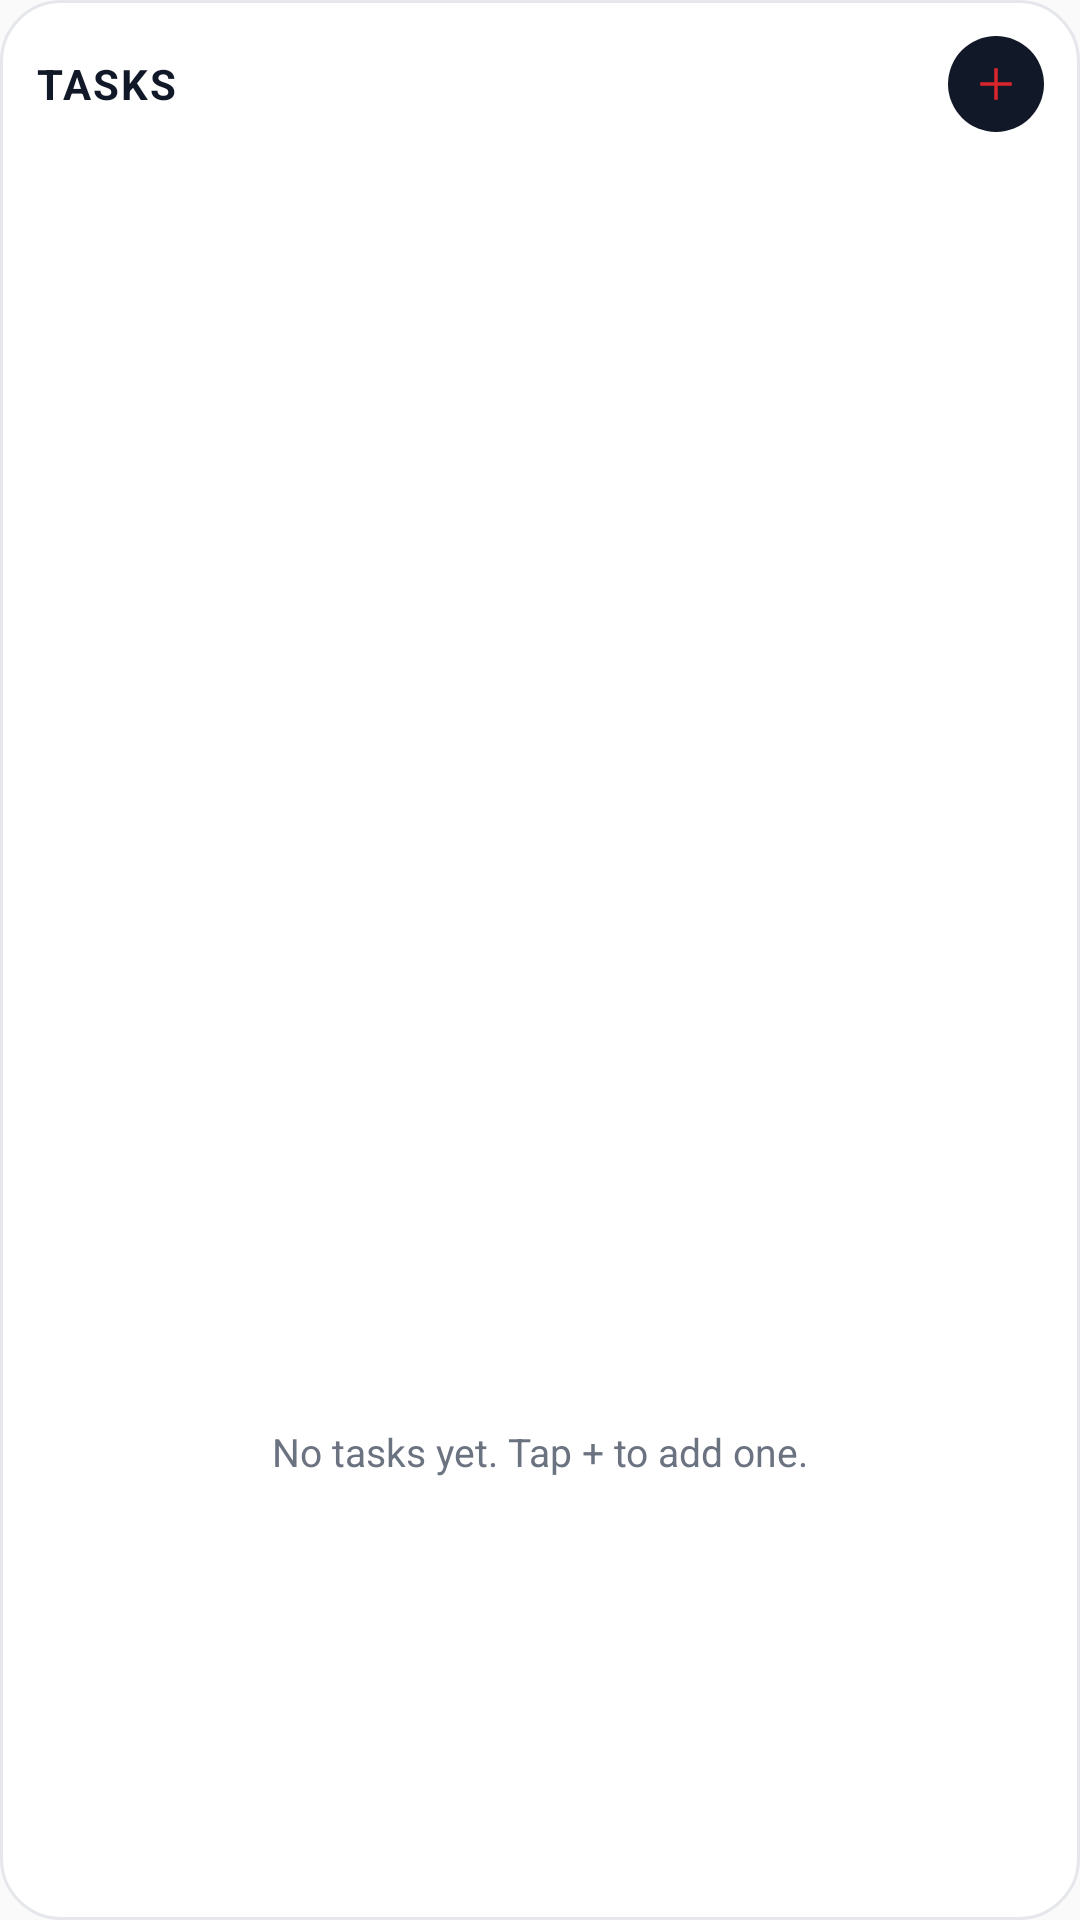

Point at icon controls on the screen. Image size 1080 x 1920, points as point (x, y).
Quick add task: point (996, 84)
